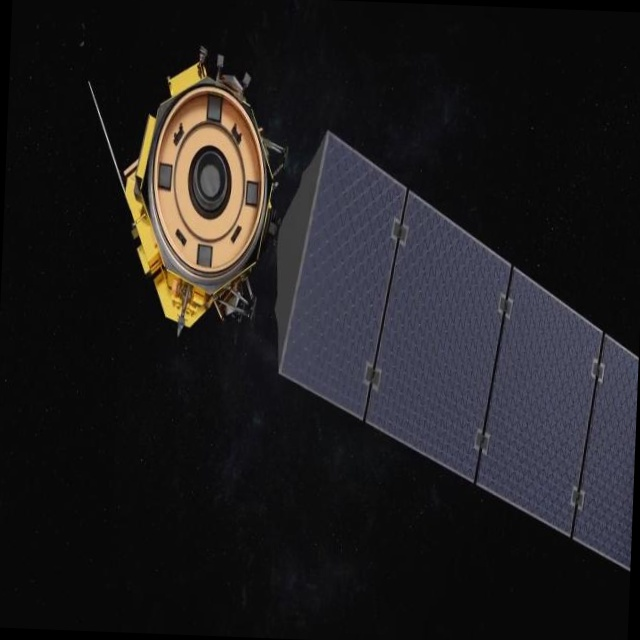satellite: (64, 32, 640, 585)
